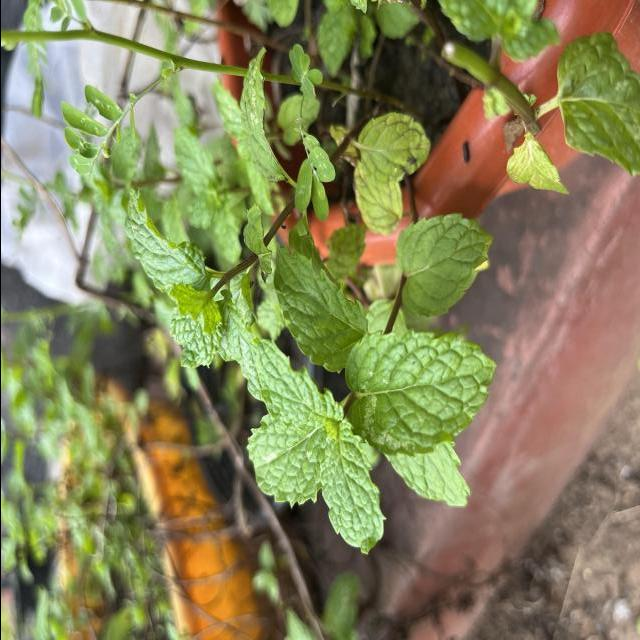Mentha spicata: (342, 328, 497, 458), (272, 242, 370, 375), (393, 212, 494, 320), (244, 412, 320, 511)
